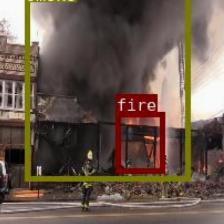fire: (114, 110, 164, 172)
smoke: (24, 0, 189, 181)
